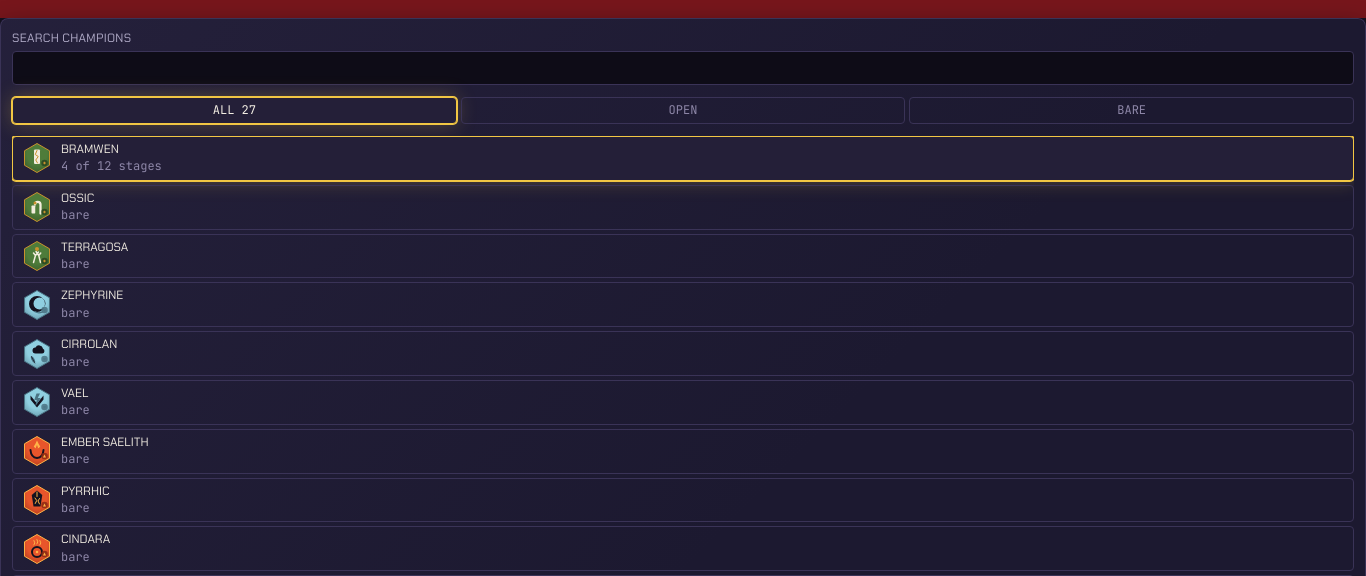
Test: the confirmation › names every rune it is about to destroy
This screenshot has width=1366, height=576.
Expected: the radio button labelled "All 27" is shown, x1=12 y1=97 x2=457 y2=124
Click the button "Bramwen 4 of 12 stages": {"x": 37, "y": 158} x1=12 y1=136 x2=1354 y2=181
(page scrolled)
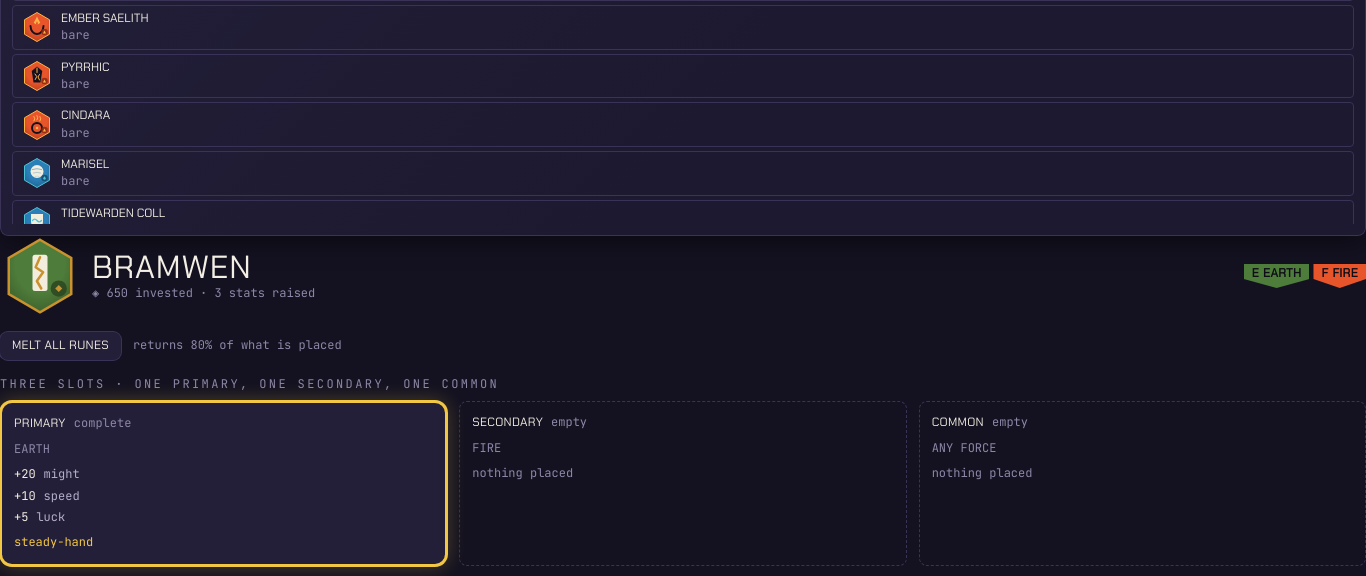
Click the button "Melt all runes": {"x": 60, "y": 346} x1=0 y1=332 x2=121 y2=360
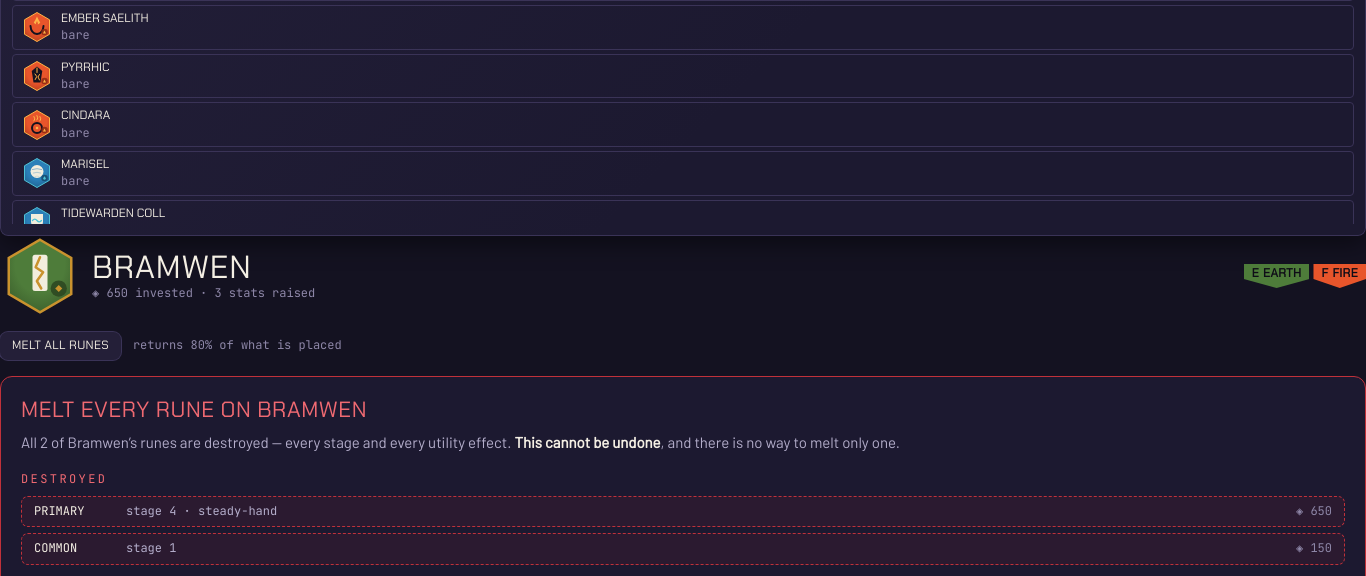
Expected: the list item "primary stage 4 · steady-hand ◈ 650" is shown, x1=21 y1=496 x2=1345 y2=528
Expected: the list item "common stage 1 ◈ 150" is shown, x1=21 y1=534 x2=1345 y2=565
